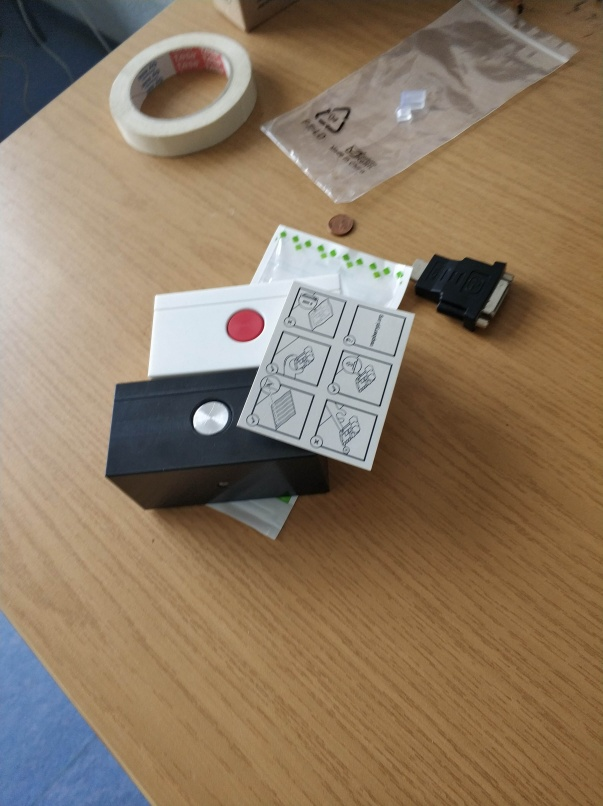black+black+silver: (100, 365, 345, 514)
white+white+red: (147, 267, 349, 373)
